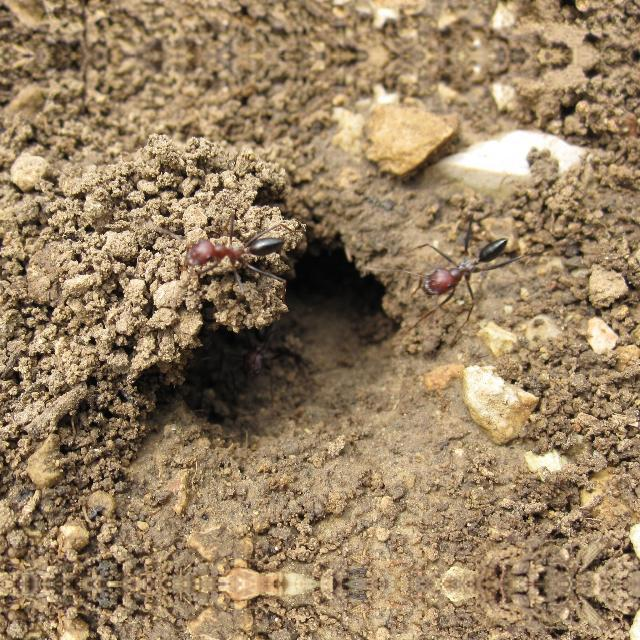Cataglyphis: (410, 225, 522, 305), (180, 221, 292, 275)
